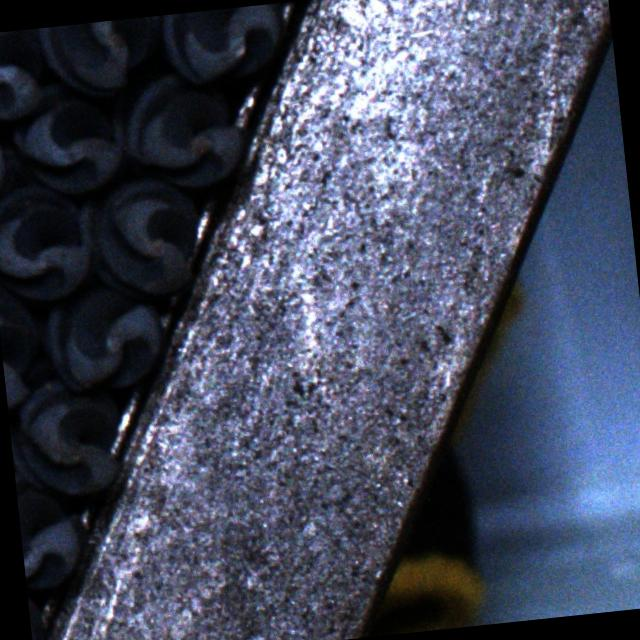tool_b: (104, 54, 246, 192), (3, 353, 127, 502), (31, 262, 168, 393), (75, 170, 204, 306), (6, 76, 127, 198), (36, 15, 169, 103), (0, 178, 93, 301), (160, 2, 284, 88), (14, 466, 85, 590), (0, 282, 50, 412), (0, 26, 64, 125)
